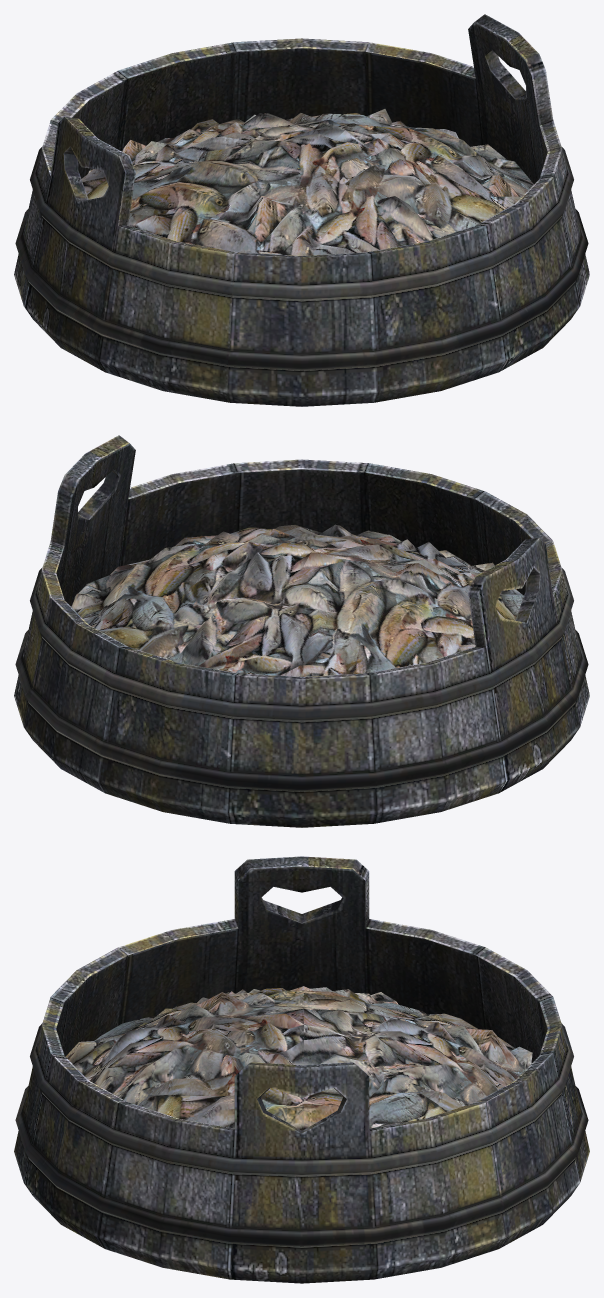
Rendered from fish_bowl.FBX.
3 renders of one model, top to bottom at view 1: azimuth 30°, elevation 25°; view 2: azimuth 150°, elevation 25°; view 3: azimuth 270°, elevation 25°, orthographic.
Parts seen in each view (by area): view 1: fish_bowl; view 2: fish_bowl; view 3: fish_bowl.
Part boxes in pixels (x1,y1,x2,y2): fish_bowl: (14, 14, 589, 406); fish_bowl: (14, 435, 589, 827); fish_bowl: (14, 856, 589, 1283).
Bounding box in the file's own units: 41.99 × 41.99 × 16.39.
